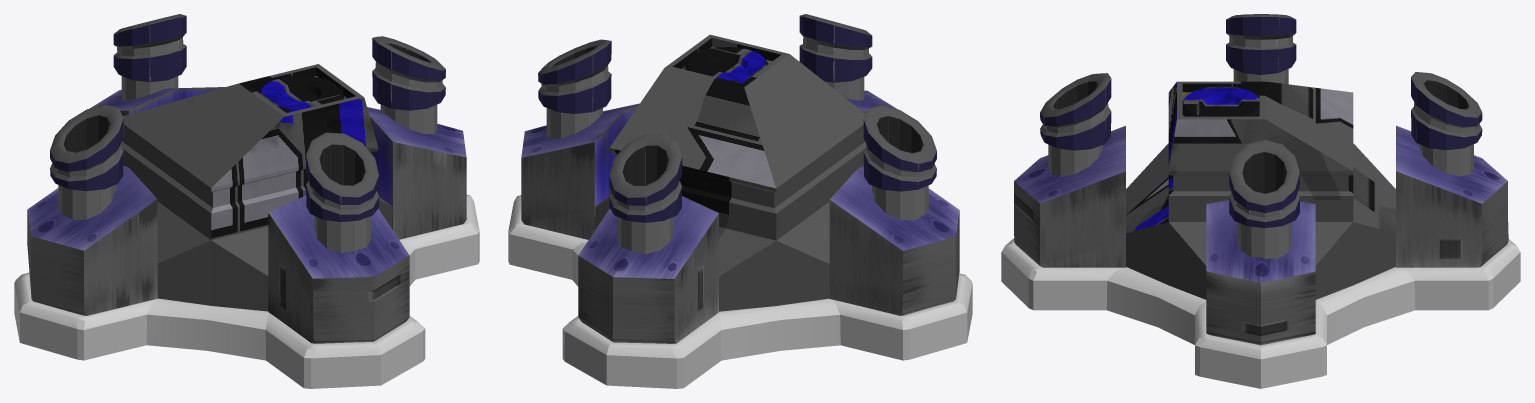
File: Armory.fbx
The picture shows the model from 3 angles, left to right: view 1: azimuth 30°, elevation 25°; view 2: azimuth 150°, elevation 25°; view 3: azimuth 270°, elevation 25°; orthographic projection. The views are drawn at different scales.
Visible parts, largest first — view 1: polySurface363, polySurface371, polySurface370, polySurface373, polySurface372, polySurface374, polySurface368; view 2: polySurface371, polySurface363, polySurface370, polySurface368, polySurface372, polySurface374, polySurface373; view 3: polySurface363, polySurface371, polySurface370, polySurface374, polySurface368, polySurface373, polySurface372.
Boxes of the visible parts, <box> form: polySurface363: <box>27,87,466,343</box>; polySurface371: <box>120,64,392,311</box>; polySurface370: <box>14,195,479,388</box>; polySurface373: <box>306,132,378,252</box>; polySurface372: <box>50,104,123,219</box>; polySurface374: <box>372,36,445,134</box>; polySurface368: <box>113,14,186,100</box>; polySurface371: <box>595,34,866,311</box>; polySurface363: <box>521,90,959,343</box>; polySurface370: <box>508,195,972,388</box>; polySurface368: <box>609,134,682,253</box>; polySurface372: <box>863,105,936,220</box>; polySurface374: <box>538,39,611,138</box>; polySurface373: <box>799,14,872,100</box>; polySurface363: <box>1014,125,1508,345</box>; polySurface371: <box>1126,81,1395,299</box>; polySurface370: <box>1001,238,1520,388</box>; polySurface374: <box>1229,139,1299,258</box>; polySurface368: <box>1411,72,1482,176</box>; polySurface373: <box>1040,73,1111,176</box>; polySurface372: <box>1226,14,1296,84</box>.
Bounding box in the file's own units: 18.66 × 8.35 × 19.07.
